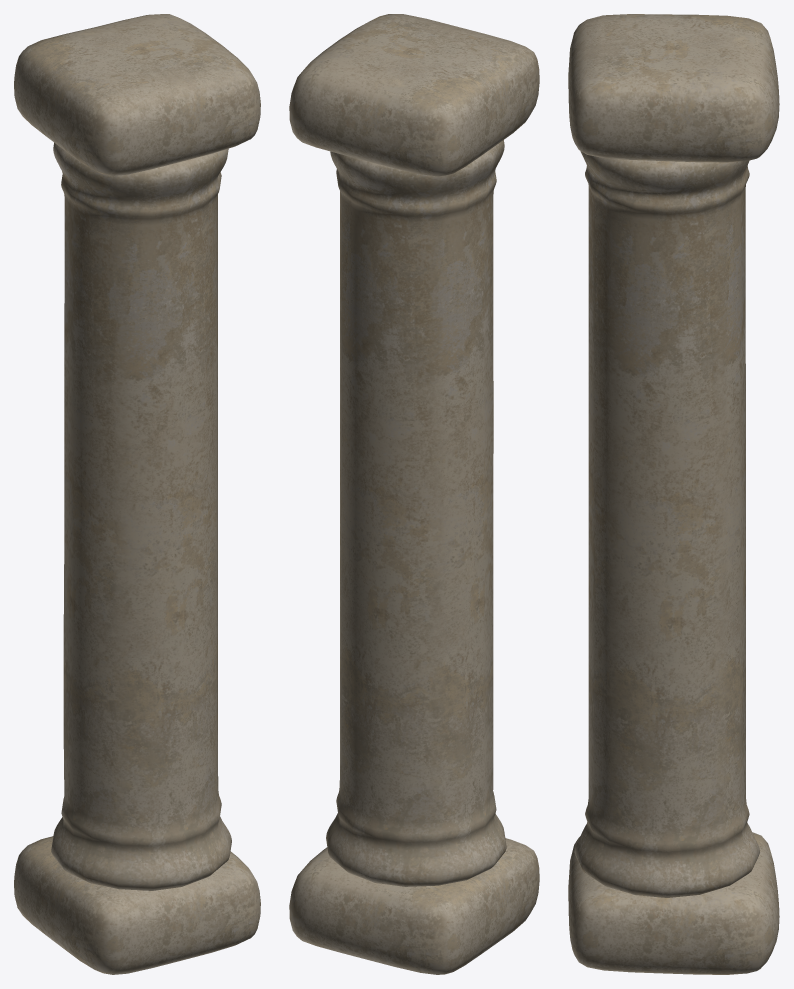
Rendered from pillar.fbx.
3 renders of one model, left to right at view 1: azimuth 30°, elevation 25°; view 2: azimuth 150°, elevation 25°; view 3: azimuth 270°, elevation 25°, orthographic.
Visible parts, largest first — view 1: Pillar2_003_1; view 2: Pillar2_003_1; view 3: Pillar2_003_1.
Part boxes in pixels (<box>): Pillar2_003_1: <box>14,14,260,974</box>; Pillar2_003_1: <box>289,14,539,974</box>; Pillar2_003_1: <box>568,14,779,974</box>.
Size of the model in its own units: 131 by 631 by 134.
1 material, 1 textured.
